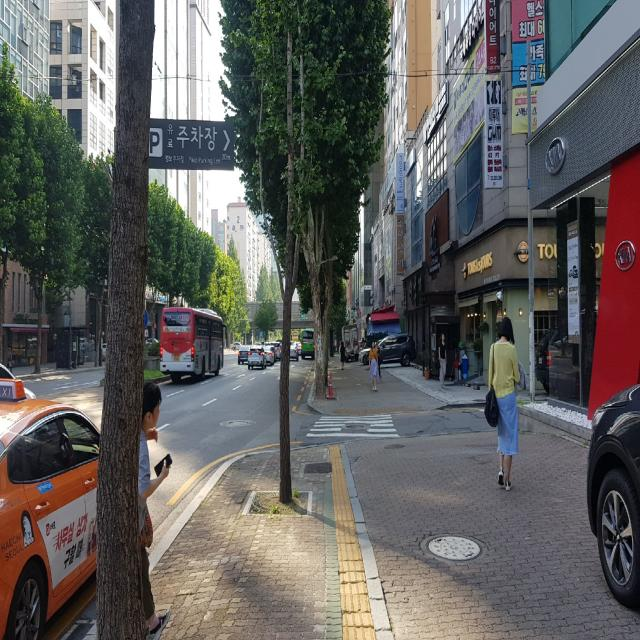횡단보도: (304, 414, 400, 438)
